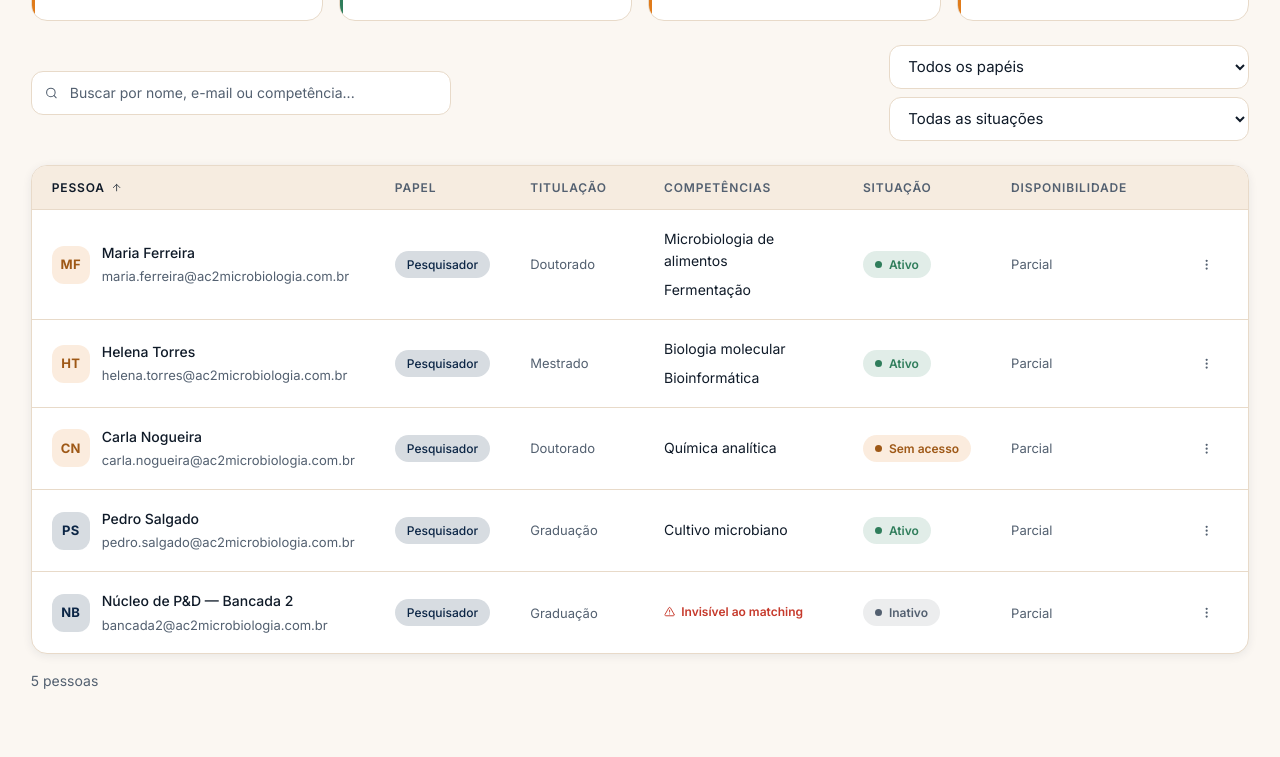
Test case: RedePage › oferece reativar a quem está inativo, e não liberar acesso
The image size is (1280, 757).
(page scrolled)
Expected: the text "Maria Ferreira" is shown, [102, 244, 195, 261]
Click the button named "ações para núcleo de p&d — bancada 2": (1206, 613) [1184, 591, 1228, 635]
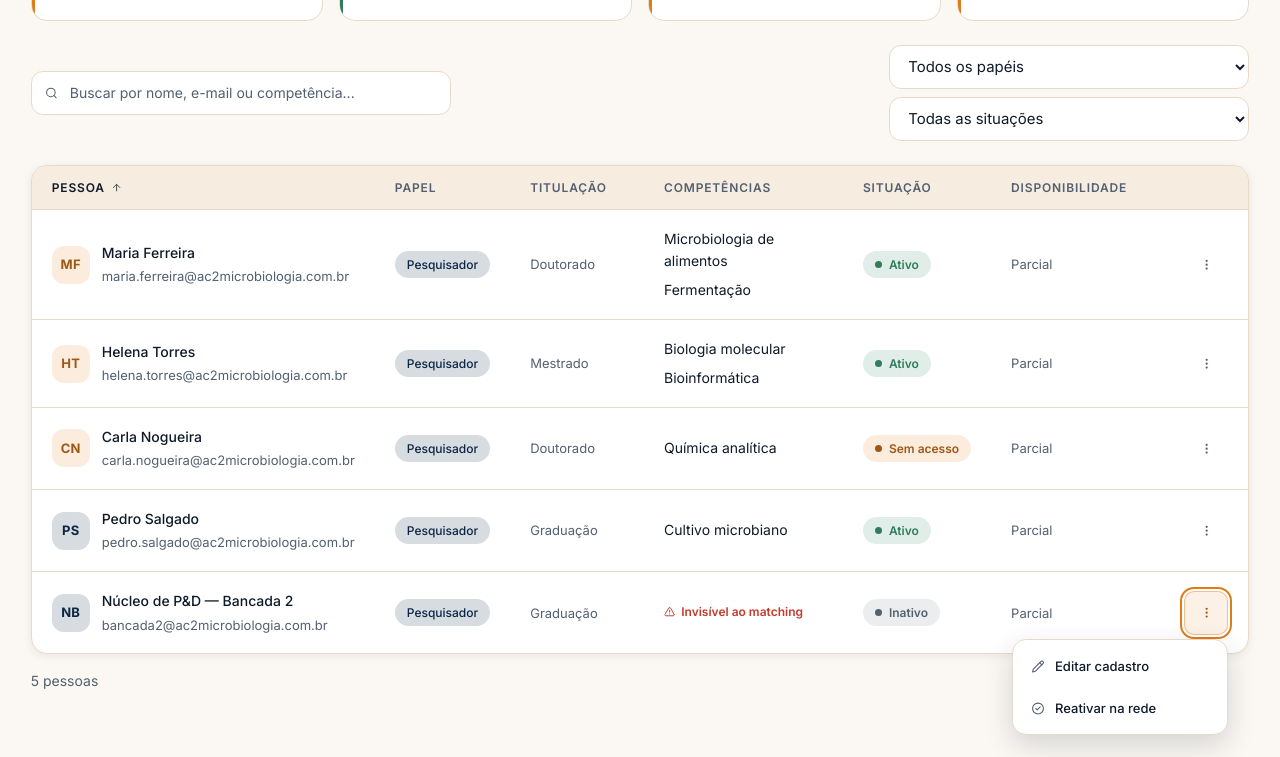
Click the menu item "Reativar na rede": (1120, 708) [1019, 688, 1221, 728]
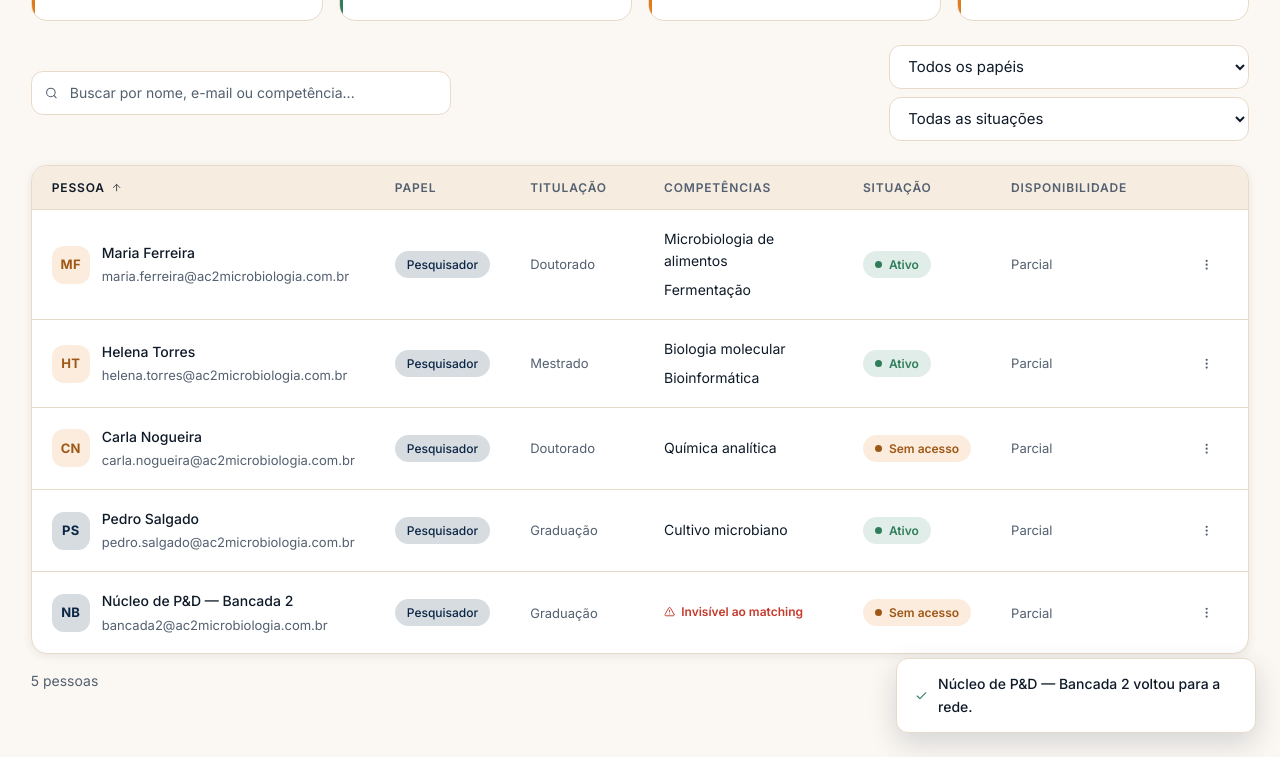
Expected: the text "Núcleo de P&D — Bancada 2 voltou para a rede." is shown, [896, 658, 1256, 733]
